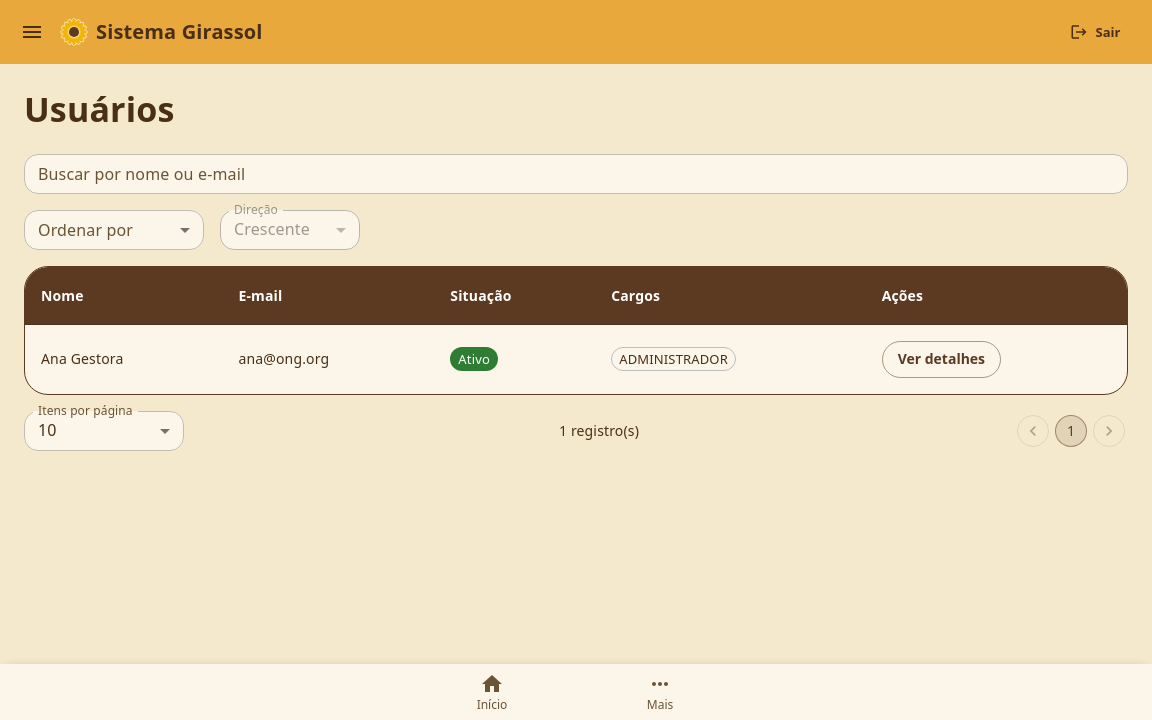
Telas de administração RBAC (#3) › navega da listagem para o detalhe ao clicar em Ver detalhes
Click the button "Ver detalhes" at [941, 359], box [882,341,1001,378]
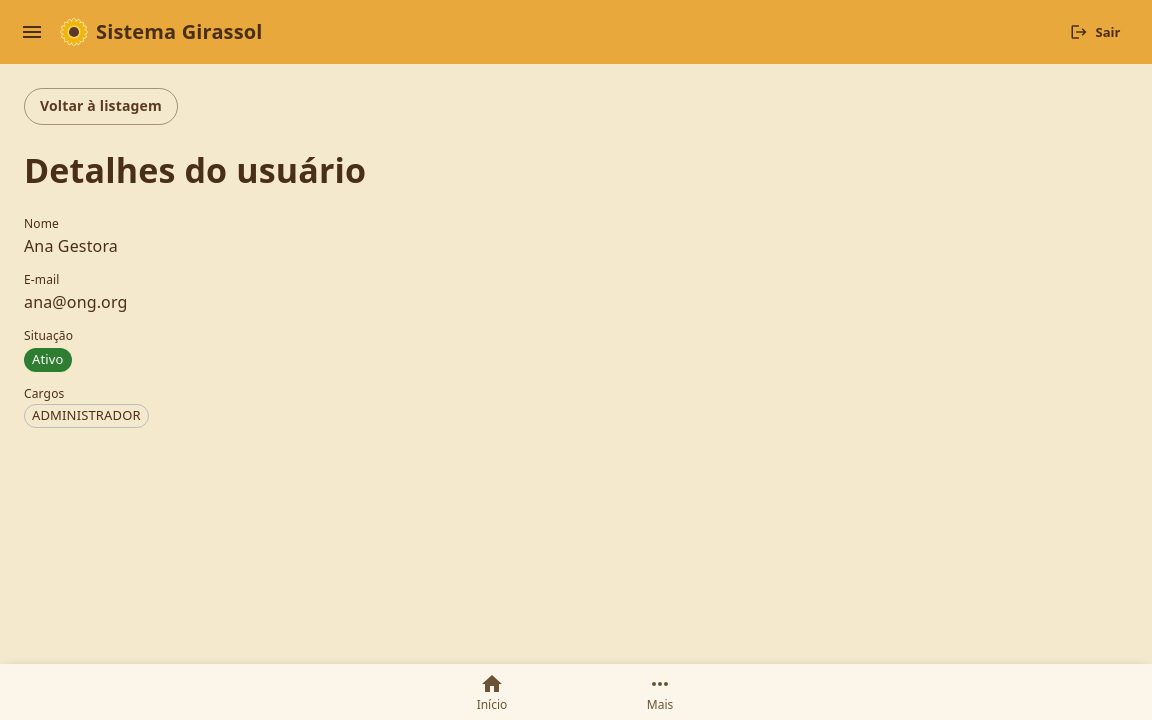
Result: the heading "Detalhes do usuário" is shown at [24,146,366,192]
